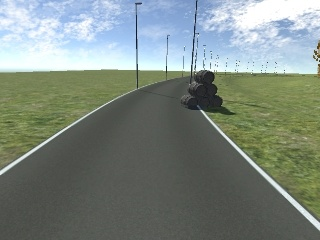Barriels: (179, 69, 236, 116)
